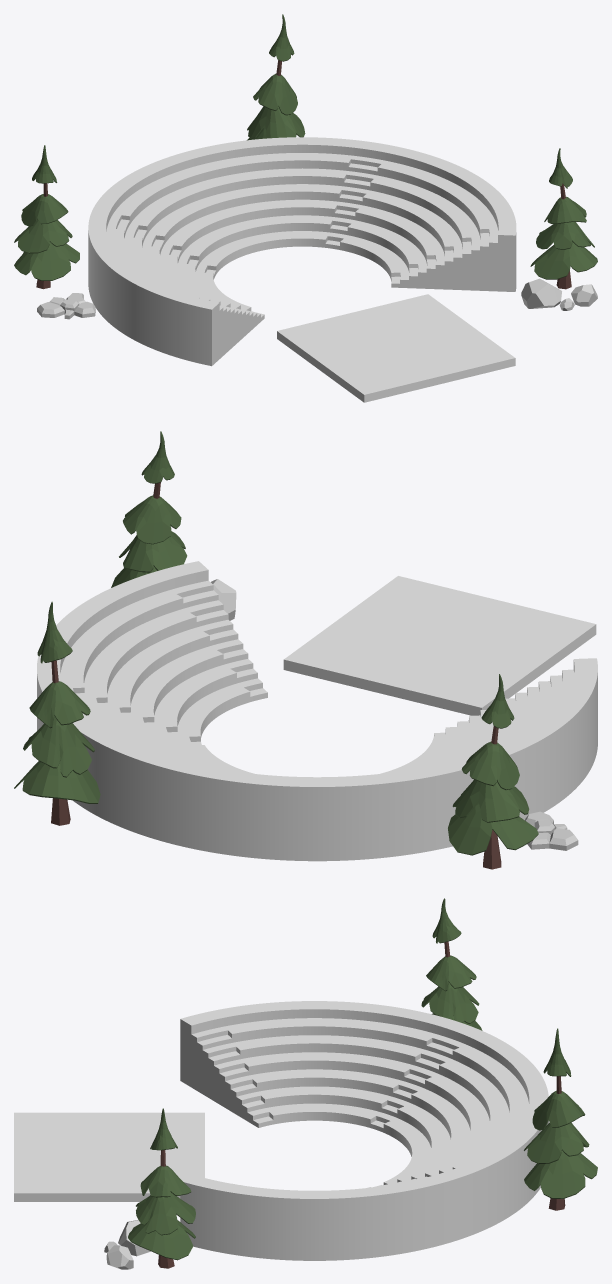
The model's file is theatre.fbx.
3 views of the same model, one above another, from view 1: azimuth 30°, elevation 25°; view 2: azimuth 150°, elevation 25°; view 3: azimuth 270°, elevation 25° (orthographic). The views are drawn at different scales.
Parts seen in each view (by area): view 1: Lathe_NURBS_Seats_2, Plane, Lathe_NURBS_Seats_2_2, Lathe_NURBS_Seats, PineTree_2, PineTree_2.002, Deckfläche_1_4, PineTree_2.001, Lathe_NURBS_Stairs_3_2, Lathe_NURBS_Stairs.001, Deckfläche_2.001, Lathe_NURBS_Stairs_4_2 (+3 smaller); view 2: Lathe_NURBS_Seats_2, Plane, Lathe_NURBS_Seats_2_2, Lathe_NURBS_Seats, PineTree_2.001, PineTree_2, PineTree_2.002, Lathe_NURBS_Stairs_4_2, Lathe_NURBS_Stairs_2, Lathe_NURBS_Stairs.001, Rock_Type4_02_mesh, Lathe_NURBS_Stairs_3_2 (+1 smaller); view 3: Lathe_NURBS_Seats, Lathe_NURBS_Seats_2, Lathe_NURBS_Seats_2_2, Plane, PineTree_2.001, PineTree_2.002, PineTree_2, Lathe_NURBS_Stairs.001, Lathe_NURBS_Stairs_2, Deckfläche_2.001, Lathe_NURBS_Stairs_3_2, Lathe_NURBS_Stairs_4_2 (+1 smaller).
Boxes of the visible parts, <box> form: Lathe_NURBS_Seats_2: <box>96,137,357,273</box>; Plane: <box>277,294,515,402</box>; Lathe_NURBS_Seats_2_2: <box>340,146,515,280</box>; Lathe_NURBS_Seats: <box>88,220,250,358</box>; PineTree_2: <box>14,145,79,289</box>; PineTree_2.002: <box>530,148,597,289</box>; Deckfläche_1_4: <box>391,235,515,291</box>; PineTree_2.001: <box>247,14,305,140</box>; Lathe_NURBS_Stairs_3_2: <box>325,140,392,249</box>; Lathe_NURBS_Stairs.001: <box>179,295,264,366</box>; Deckfläche_2.001: <box>212,303,264,365</box>; Lathe_NURBS_Stairs_4_2: <box>391,220,516,290</box>; Lathe_NURBS_Seats_2: <box>73,704,389,861</box>; Plane: <box>283,576,596,715</box>; Lathe_NURBS_Seats_2_2: <box>37,571,250,737</box>; Lathe_NURBS_Seats: <box>380,678,596,849</box>; PineTree_2.001: <box>14,601,100,825</box>; PineTree_2: <box>448,674,538,869</box>; PineTree_2.002: <box>111,431,187,587</box>; Lathe_NURBS_Stairs_4_2: <box>157,561,267,701</box>; Lathe_NURBS_Stairs_2: <box>384,767,435,856</box>; Lathe_NURBS_Stairs.001: <box>434,658,597,751</box>; Rock_Type4_02_mesh: <box>525,811,578,850</box>; Lathe_NURBS_Stairs_3_2: <box>38,678,201,746</box>; Lathe_NURBS_Seats: <box>216,1001,448,1127</box>; Lathe_NURBS_Seats_2: <box>383,1030,548,1231</box>; Lathe_NURBS_Seats_2_2: <box>215,1174,448,1260</box>; Plane: <box>14,1112,204,1201</box>; PineTree_2.001: <box>524,1028,597,1210</box>; PineTree_2.002: <box>128,1108,195,1268</box>; PineTree_2: <box>421,898,482,1030</box>; Lathe_NURBS_Stairs.001: <box>181,1010,273,1127</box>; Lathe_NURBS_Stairs_2: <box>370,1019,479,1132</box>; Deckfläche_2.001: <box>180,1019,258,1127</box>; Lathe_NURBS_Stairs_3_2: <box>438,1164,480,1242</box>; Lathe_NURBS_Stairs_4_2: <box>180,1174,223,1251</box>.
Size of the model in its own units: 598 by 211 by 611.
